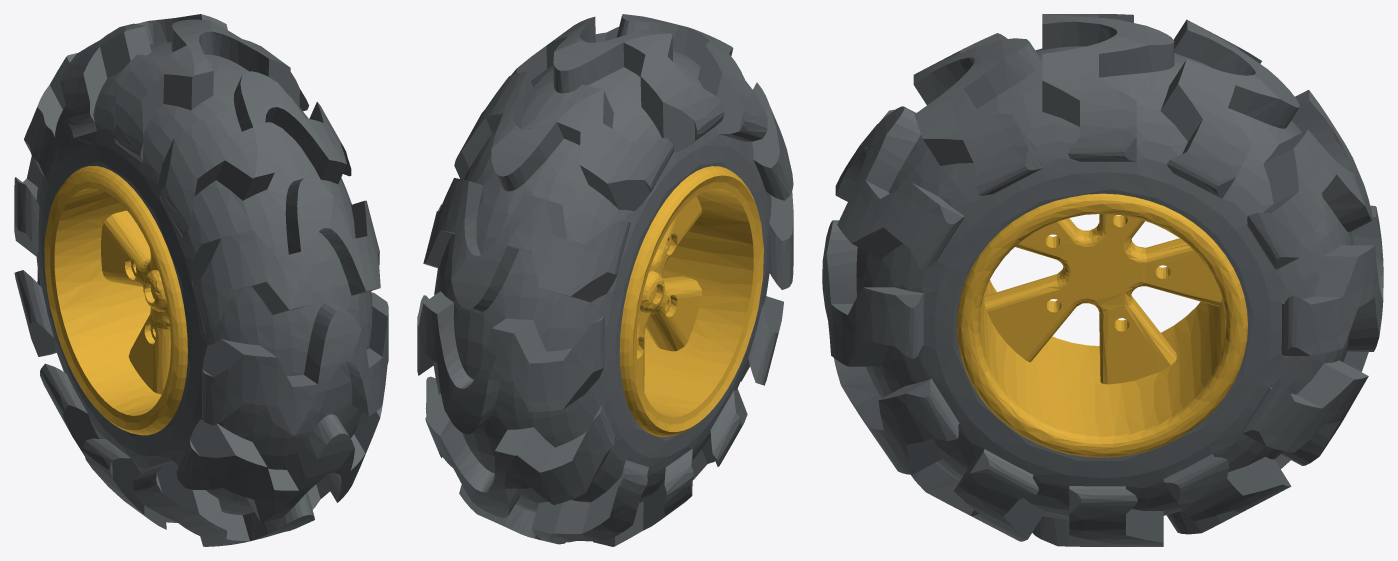
File: tinker.obj
3 views of the same model, side by side, from view 1: azimuth 30°, elevation 25°; view 2: azimuth 150°, elevation 25°; view 3: azimuth 270°, elevation 25° (orthographic). The views are drawn at different scales.
Parts seen in each view (by area): view 1: group_0_6383466, group_0_14789940; view 2: group_0_6383466, group_0_14789940; view 3: group_0_6383466, group_0_14789940.
Part boxes in pixels (<box>): group_0_6383466: <box>14,14,388,546</box>; group_0_14789940: <box>44,166,187,435</box>; group_0_6383466: <box>417,14,793,546</box>; group_0_14789940: <box>619,166,763,436</box>; group_0_6383466: <box>822,14,1383,546</box>; group_0_14789940: <box>956,193,1247,457</box>.
Size of the model in its own units: 24 by 59.34 by 59.34.
